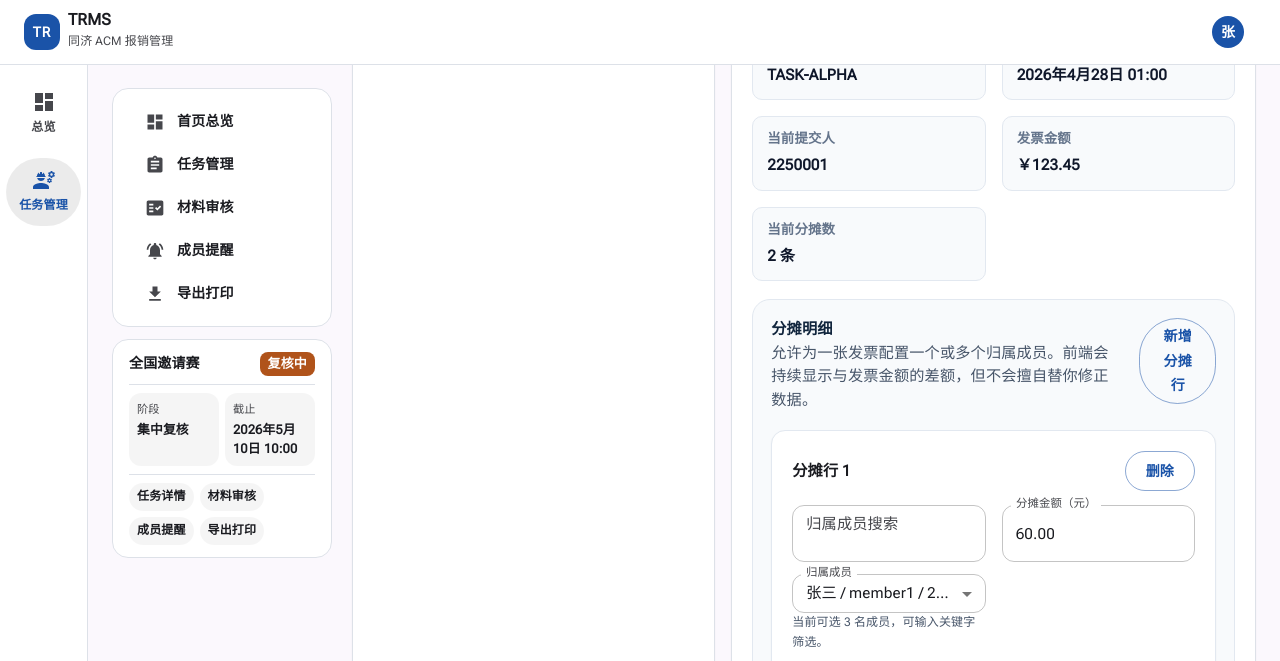
it: admin split editor page › confirms before deleting a split row and keeps the row when canceled
(page scrolled)
Click the button "新增分摊行".
click(1178, 361)  # box left=1139, top=318, right=1216, bottom=404
(page scrolled)
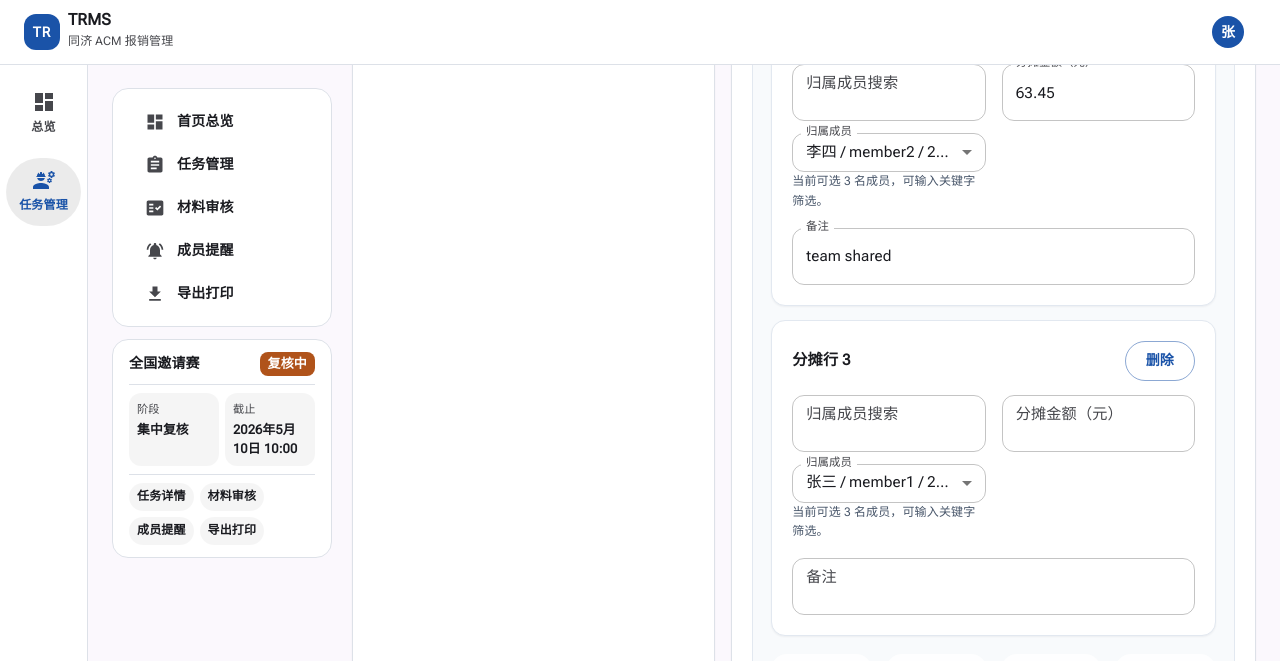
Click the button "删除".
click(1160, 361)  # box left=1125, top=341, right=1195, bottom=381
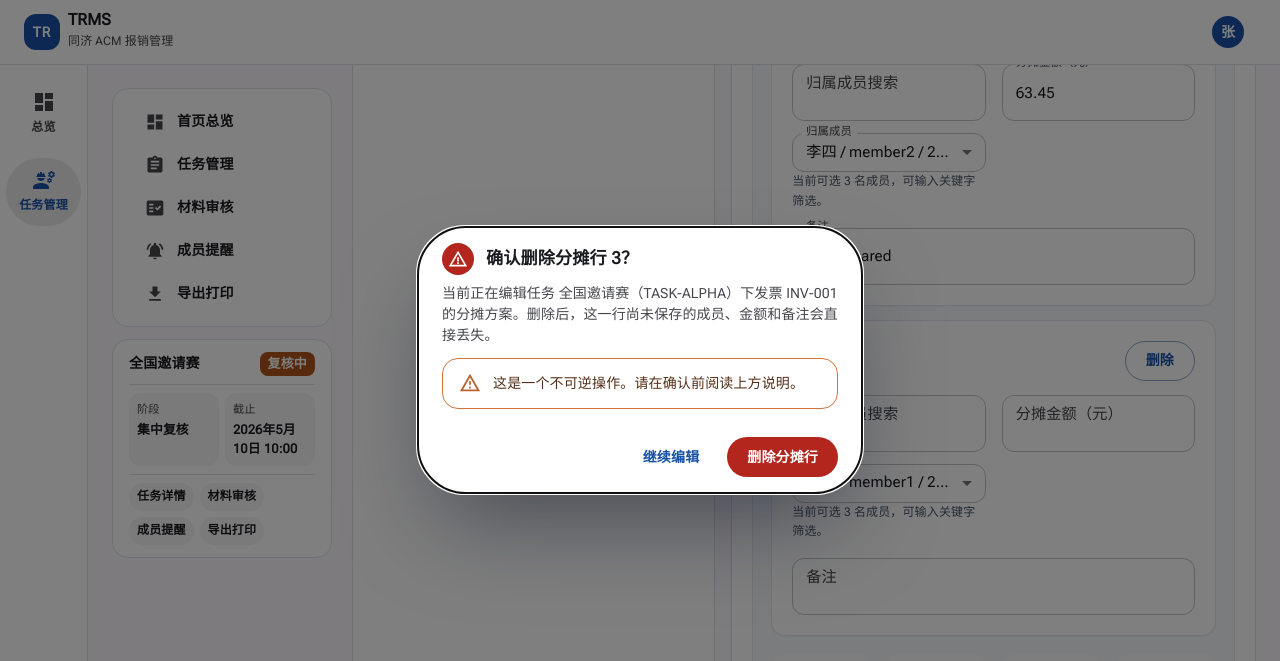
Check: the text "当前正在编辑任务 全国邀请赛（TASK-ALPHA）下发票 INV-001 的分摊方案。删除后，这一行尚未保存的成员、金额和备注会直接丢失。" is shown, box left=442, top=283, right=838, bottom=346
Click the button "继续编辑".
click(671, 457)  # box left=623, top=437, right=719, bottom=477
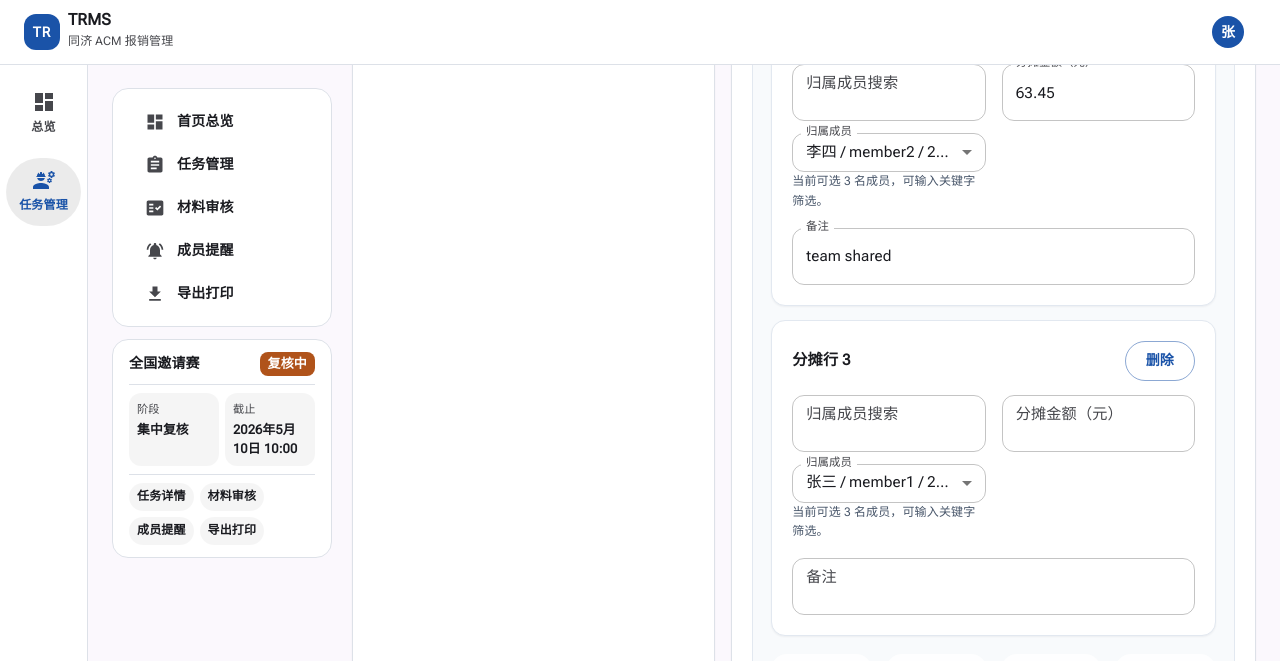
Check: the list item "分摊行 3" is shown, box left=771, top=320, right=1216, bottom=636
Check: the dialog is gone
Click the button "删除".
click(1160, 361)  # box left=1125, top=341, right=1195, bottom=381
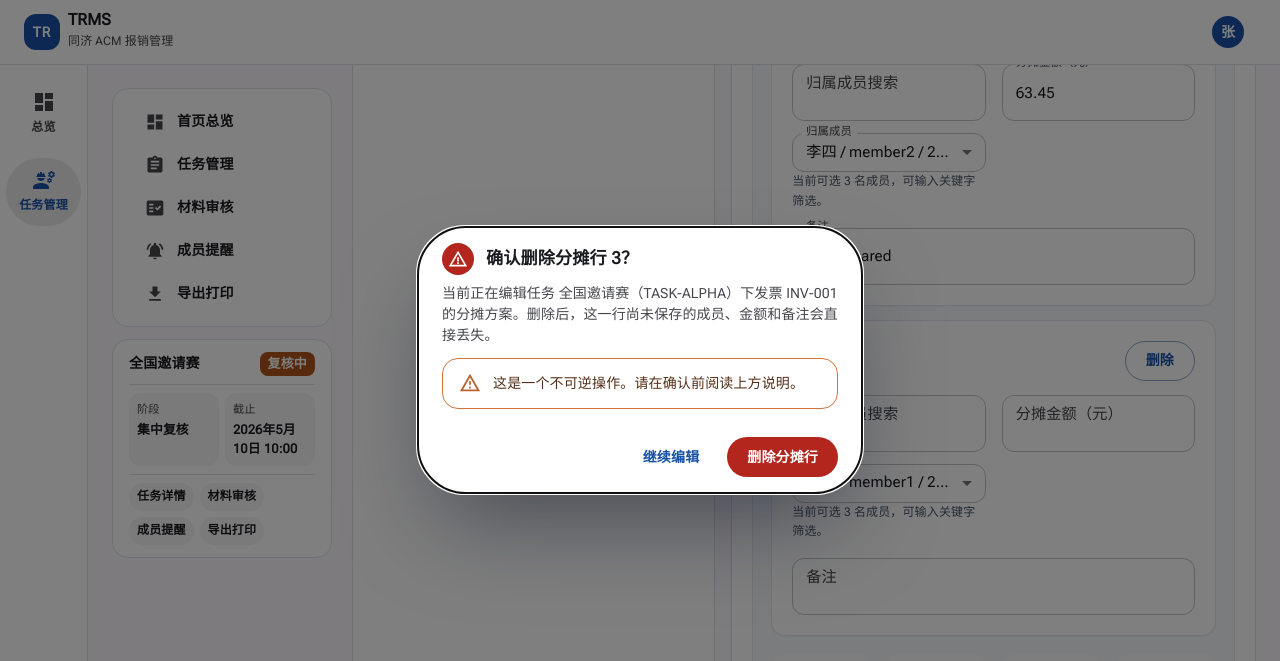
Click the button "删除分摊行".
click(783, 457)  # box left=727, top=437, right=838, bottom=477
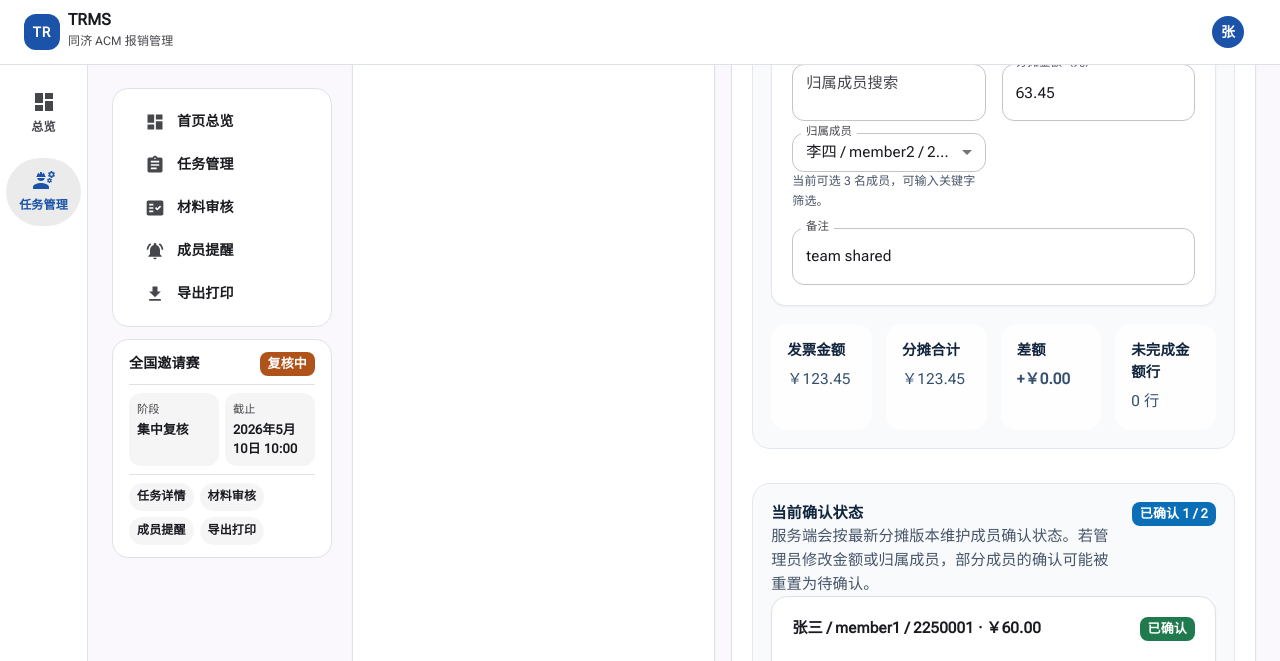
Check: the dialog is gone
Check: the text "分摊行 3" is gone
